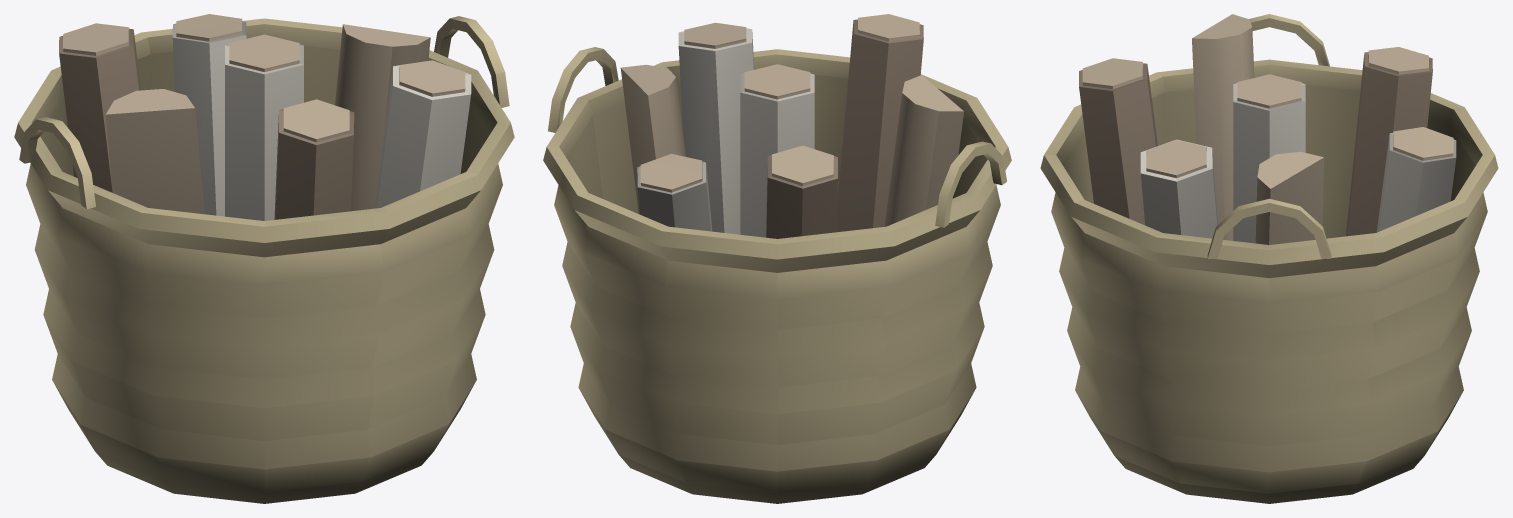
File: firewood_basket.glb
3 views of the same model, side by side, from view 1: azimuth 30°, elevation 25°; view 2: azimuth 150°, elevation 25°; view 3: azimuth 270°, elevation 25° (orthographic). The views are drawn at different scales.
Parts seen in each view (by area): view 1: static; view 2: static; view 3: static.
Boxes of the visible parts, box(x1,y1,x2,y2) form: static: box(14, 14, 514, 503); static: box(543, 14, 1011, 503); static: box(1040, 14, 1498, 503).
Bounding box in the file's own units: 0.524 × 0.4422 × 0.524.
